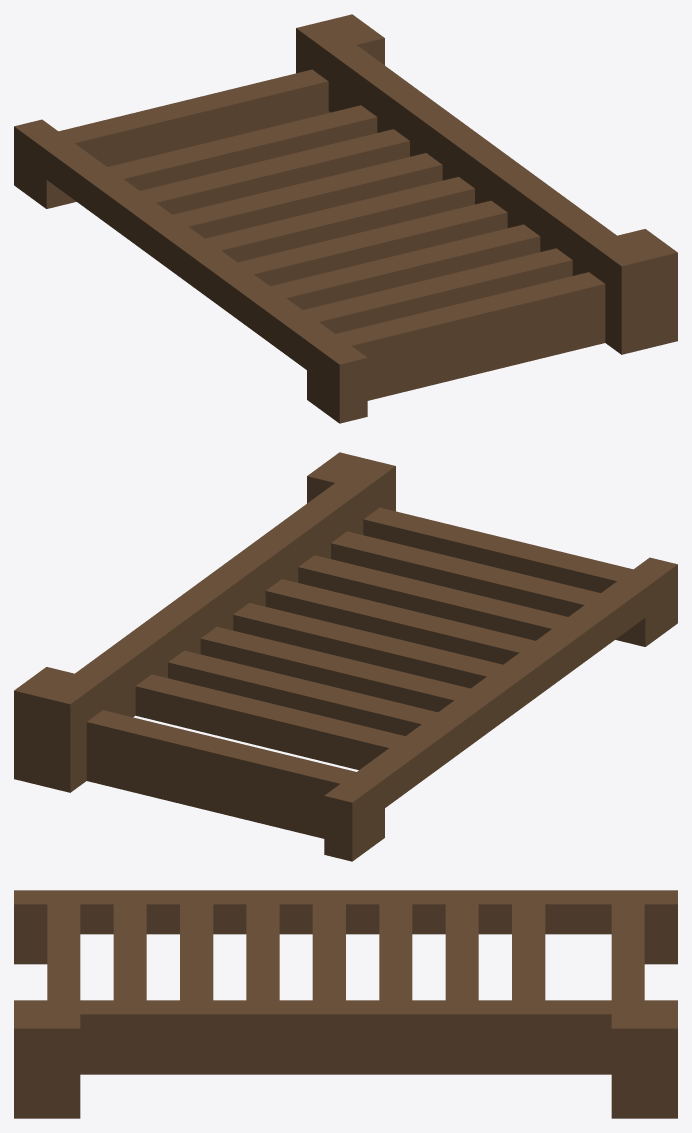
File: Wood_elements.glb
The picture shows the model from 3 angles, top to bottom: view 1: azimuth 30°, elevation 25°; view 2: azimuth 150°, elevation 25°; view 3: azimuth 270°, elevation 25°; orthographic projection.
Parts seen in each view (by area): view 1: Wood_elements; view 2: Wood_elements; view 3: Wood_elements.
Part boxes in pixels (x1=…): Wood_elements: x1=14, y1=14, x2=677, y2=423; Wood_elements: x1=14, y1=452, x2=677, y2=861; Wood_elements: x1=14, y1=890, x2=677, y2=1118.
Size of the model in its own units: 1.13 by 0.282 by 1.88.
1 material, 1 textured.
